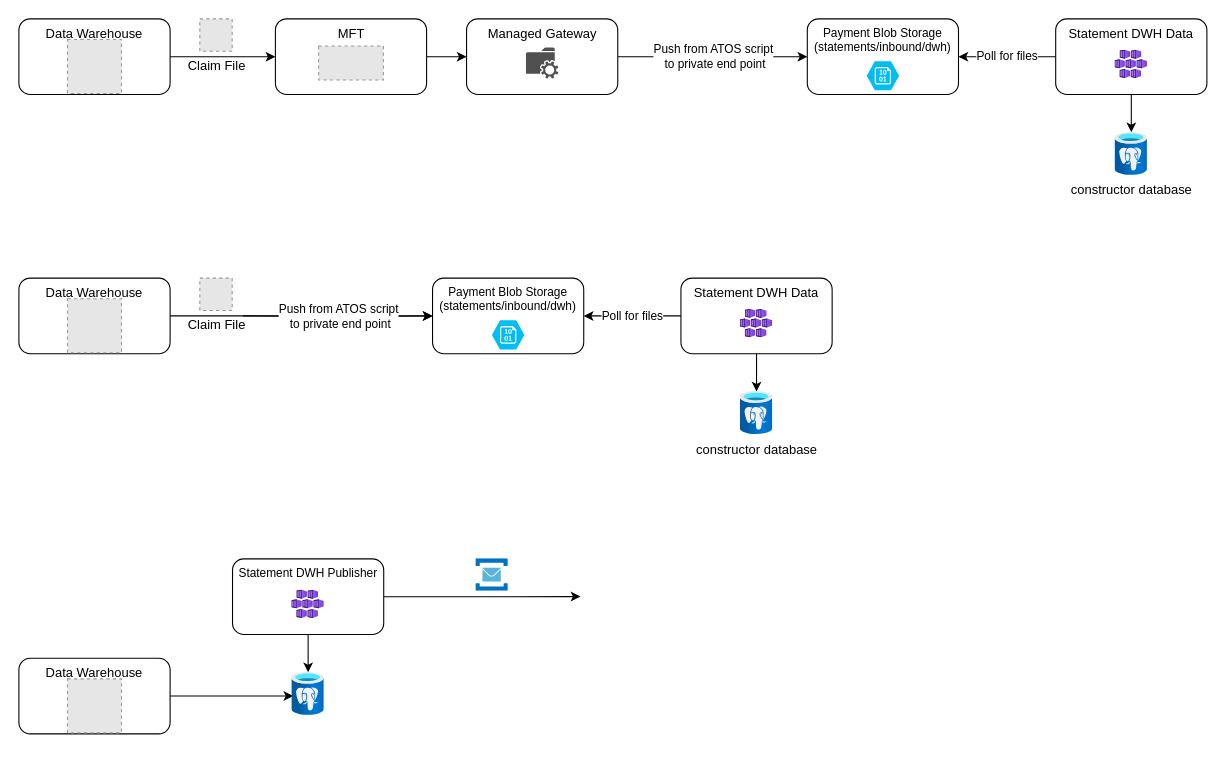
Image size: 1226x757. Some labels were removed from this diagram. Grey dashed boxes stand in for pictures. The centre of each missing label's shape, as x and y in pixels:
DWH database: point 307,693
ffc-doc-statement-data (topic): point 491,574
